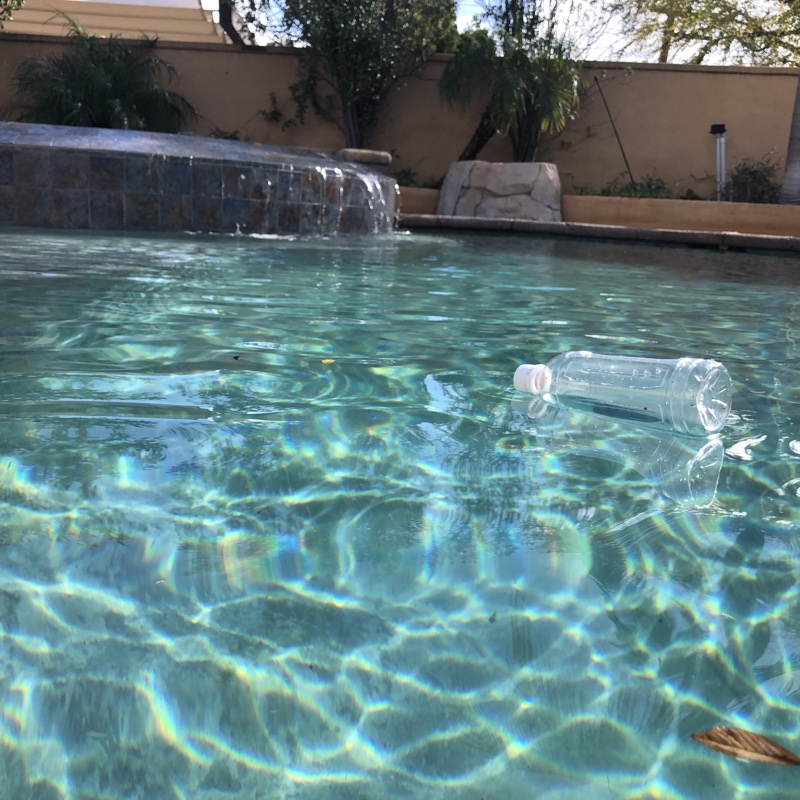Plastic Bottle: (511, 347, 735, 444)
